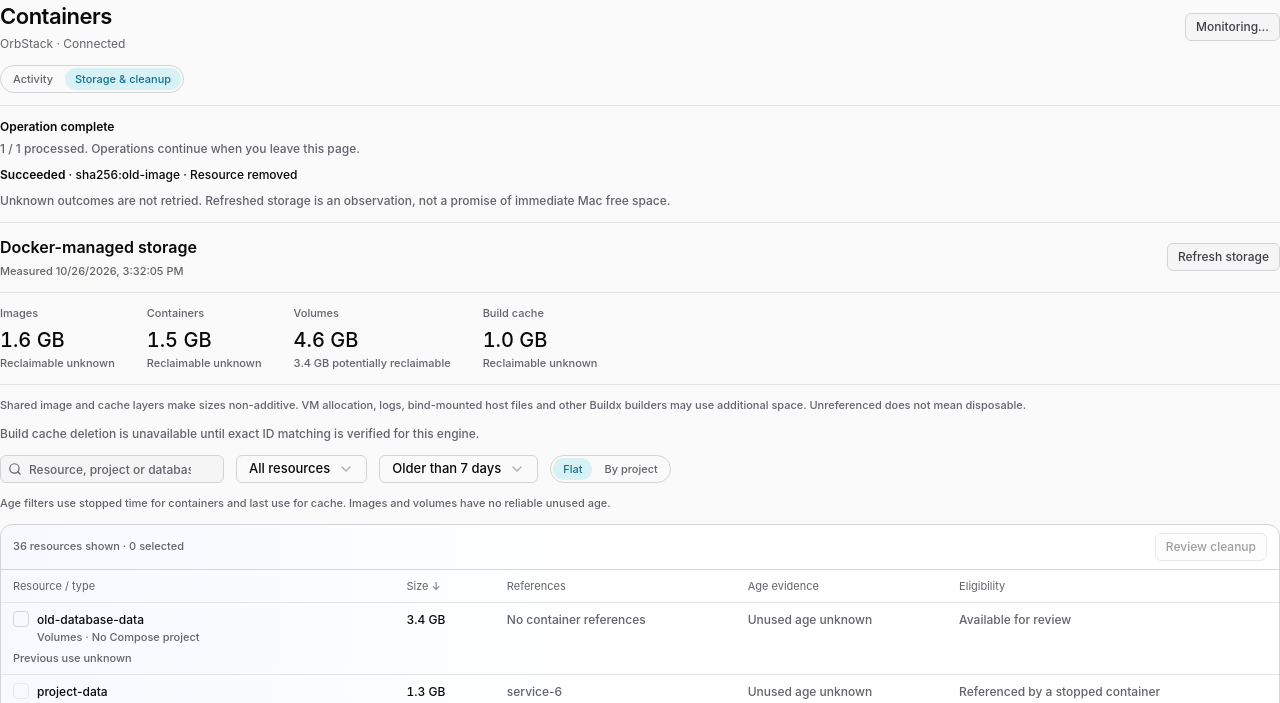
Test: recovers a newer daemon operation after a lost execute response despite an older cached result
This screenshot has width=1280, height=703.
Expected: the heading "Operation complete" is shown, [0,119,114,134]
Expected: the element named "Docker operation results" shows "sha256:old-image", [76,167,180,182]
Click the checkbox named "Select old-database-data" at [21, 619], box [13,611,29,627]
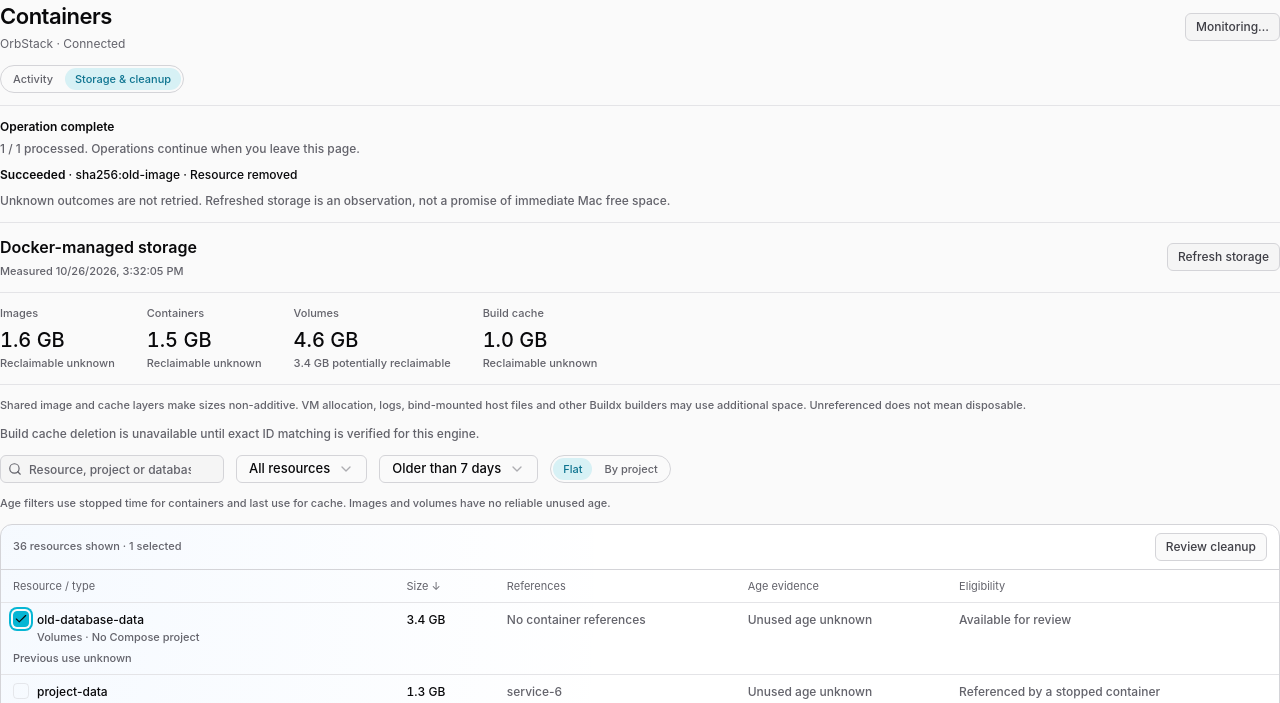
Click the button "Review cleanup" at [1211, 546], box [1155,532,1267,560]
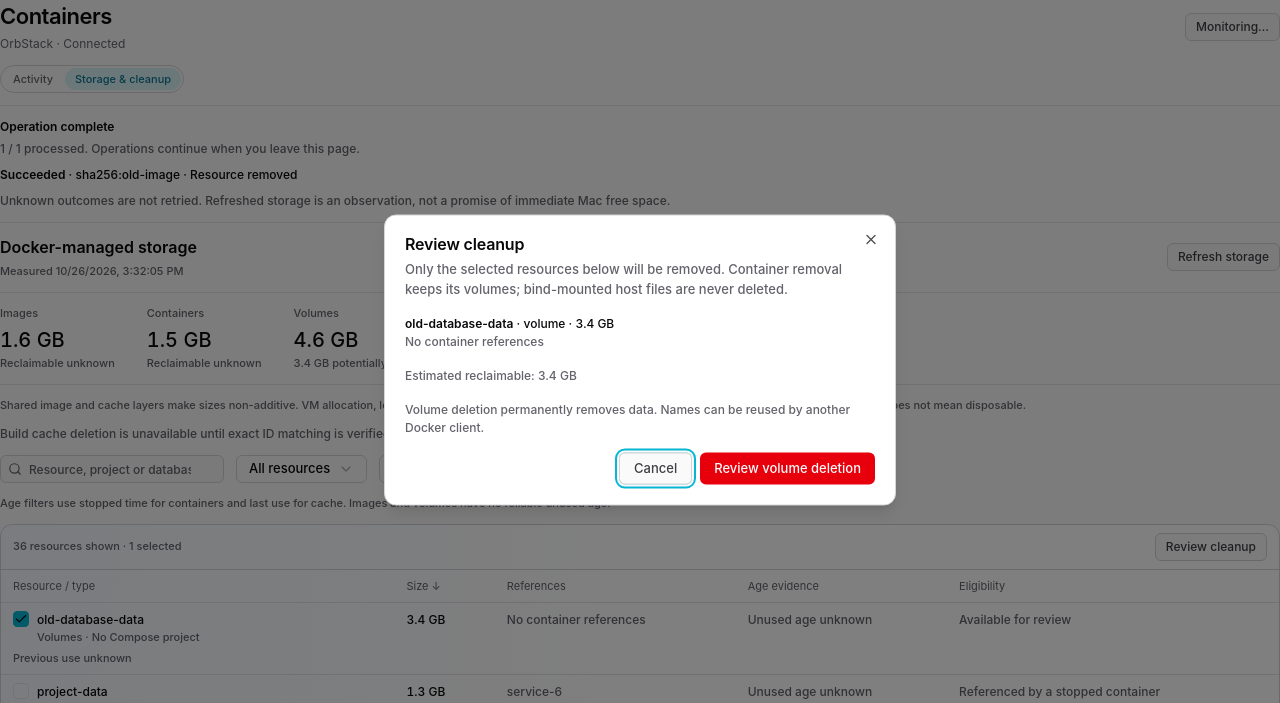
Click the button "Review volume deletion" at [788, 468], box [700,452,875,484]
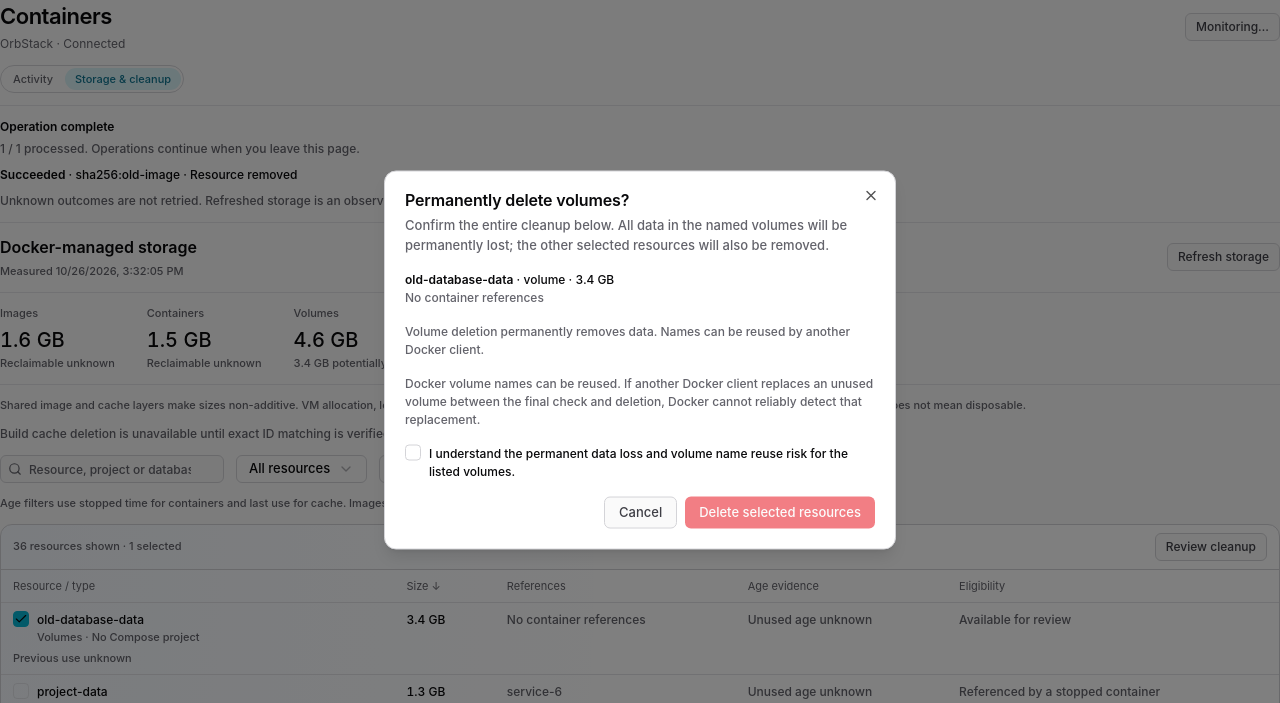
Click the checkbox named "I understand the permanent" at [413, 452], box [405,444,421,460]
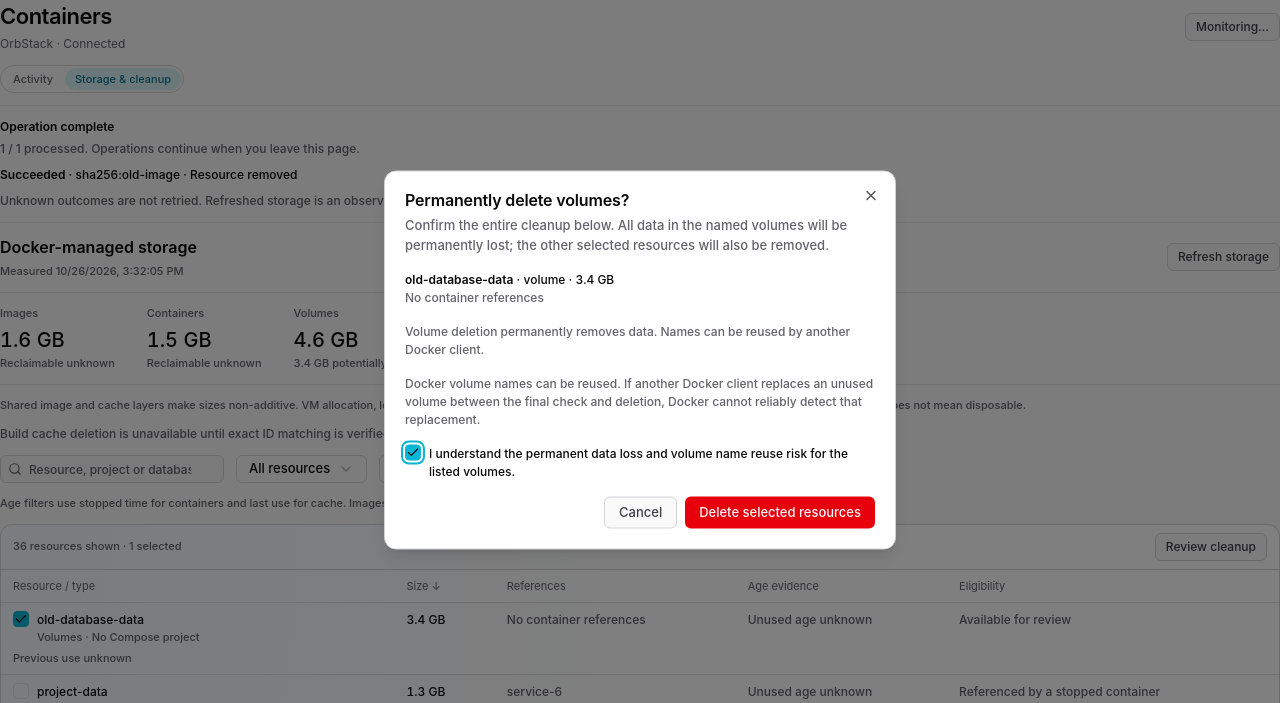
Click the button "Delete selected resources" at [780, 512], box [685,496,875,528]
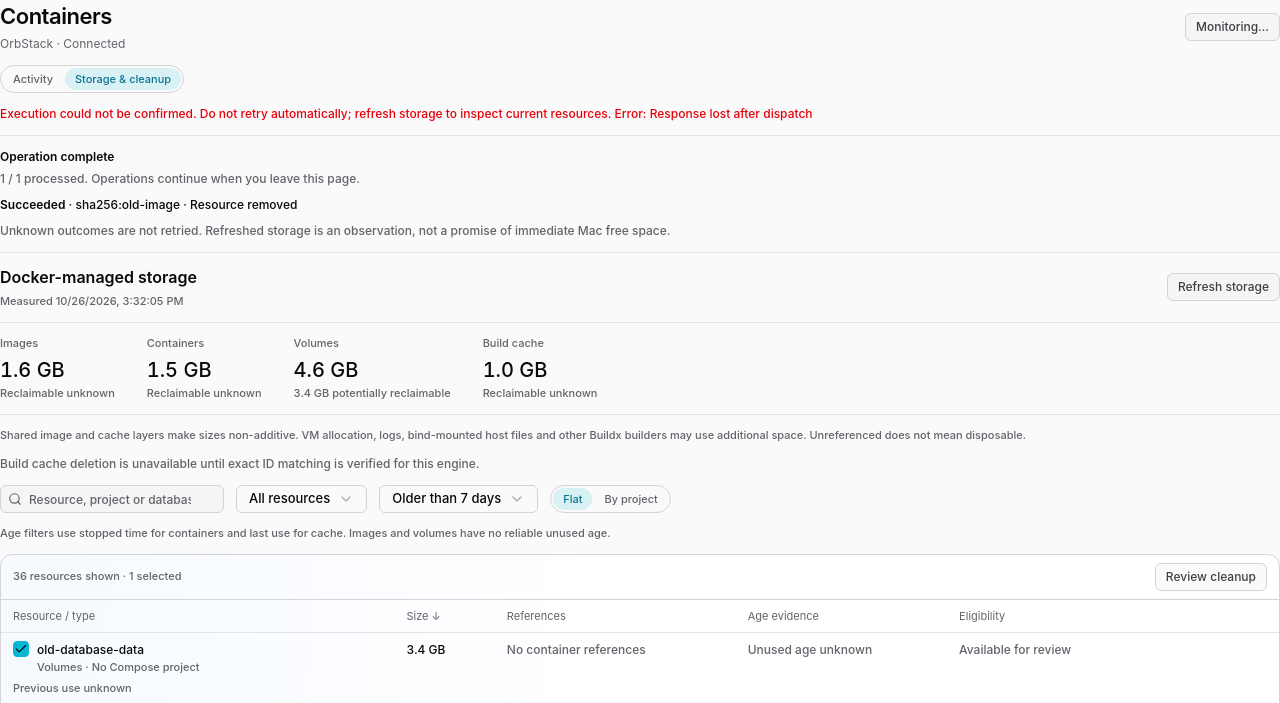
Now the text "Execution could not be confirmed" is shown, box [0,106,813,121]
Click the button "Refresh storage" at [1223, 287], box [1167,273,1279,301]
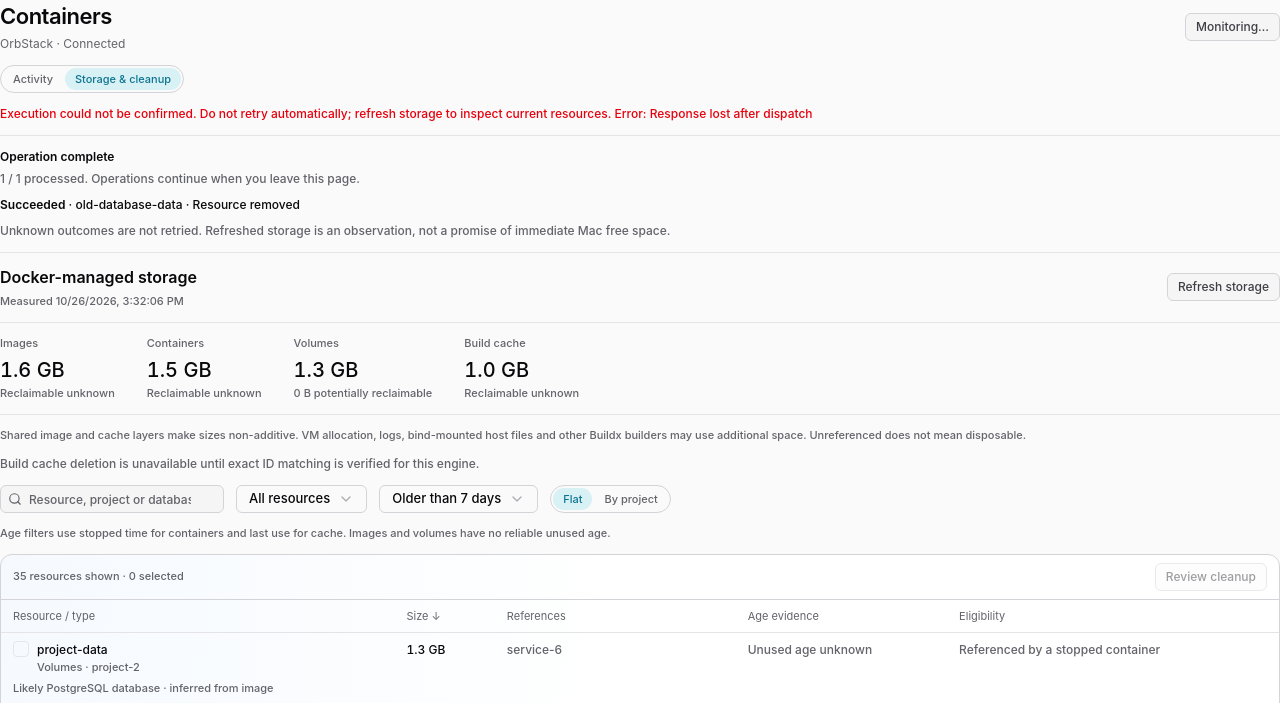
Now the element named "Docker operation results" shows "old-database-data", box [76,197,182,212]
Now the element named "Docker operation results" no longer shows "sha256:old-image", box [0,135,1279,253]
